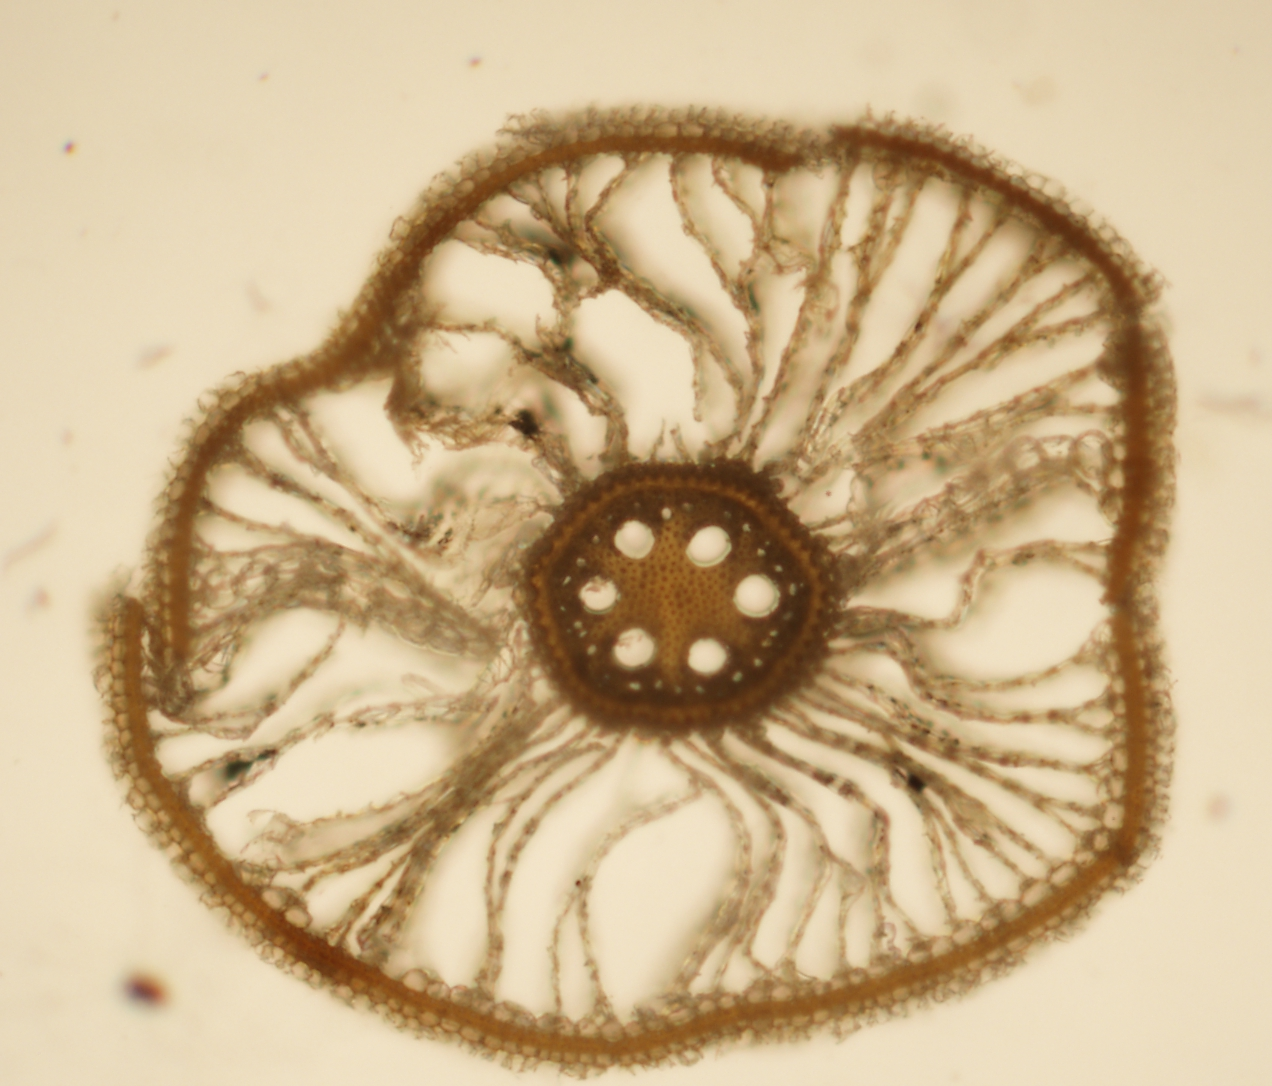lm: (732, 573, 781, 618), (685, 525, 732, 567), (613, 519, 655, 560), (613, 627, 655, 667), (578, 575, 619, 614), (687, 637, 727, 673)
